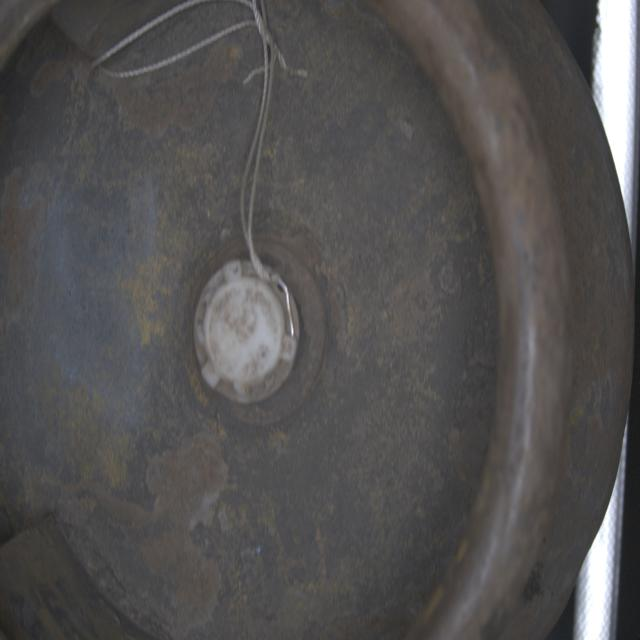Cap: (195, 254, 306, 408)
